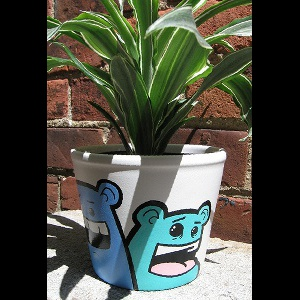flowerpot: (71, 142, 226, 292)
